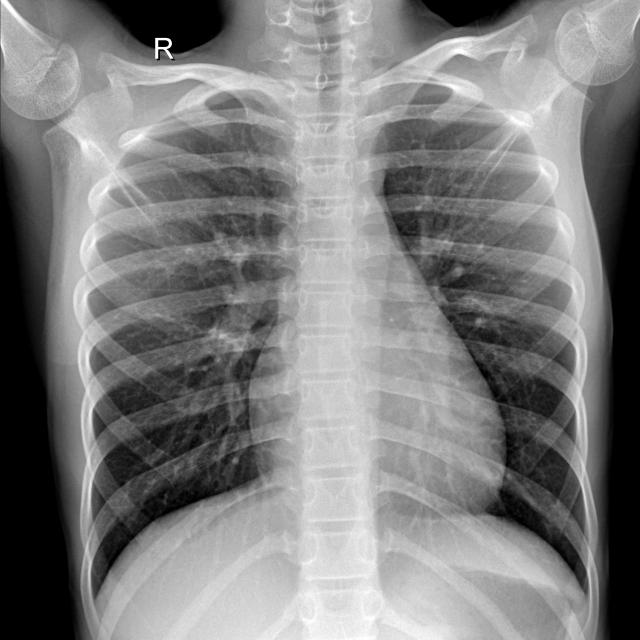no-pneumonia: (78, 89, 298, 593), (375, 81, 591, 584)
